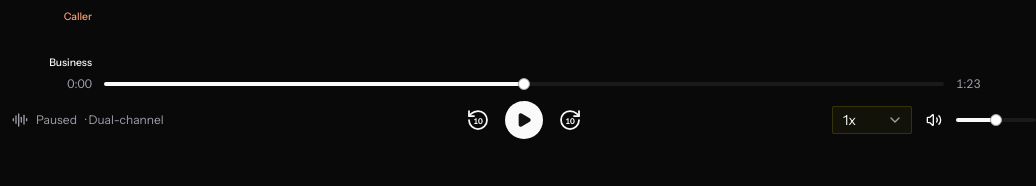
Test case: RecordingPlayer › changes playback speed, volume, and mute
Click the dropdown named "Playback speed" at point(872, 120), box x1=832 y1=106 x2=912 y2=134
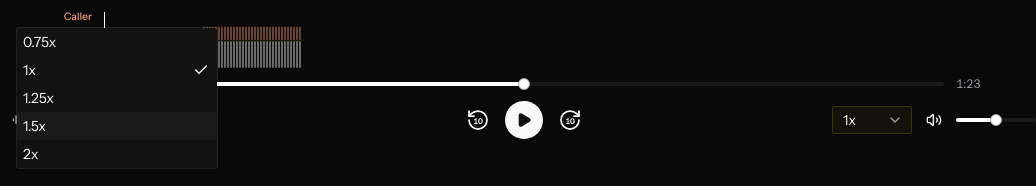
Press Enter in the option "1.5x", box x1=17 y1=112 x2=217 y2=140
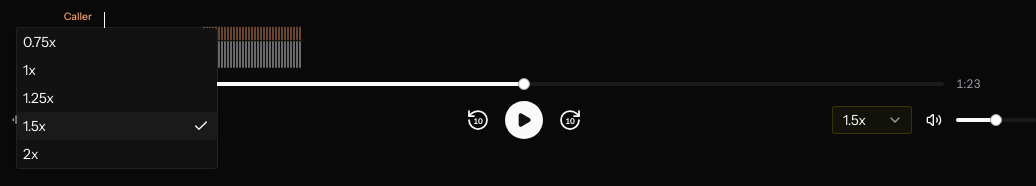
Press ArrowLeft in the slider named "Volume" in the row of "Dual-channel", box x1=991 y1=115 x2=1001 y2=125
Click the button named "Mute" at point(934, 120), box x1=920 y1=106 x2=948 y2=134
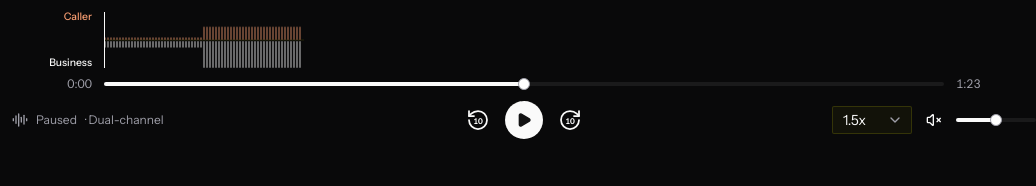
Result: the button named "Unmute" is shown at x1=920 y1=106 x2=948 y2=134
